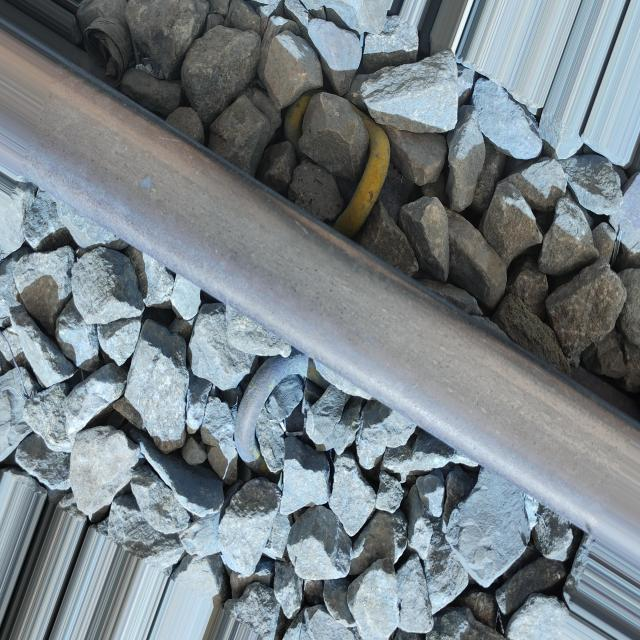Good Fasteners: (285, 92, 390, 237), (235, 353, 309, 461)
